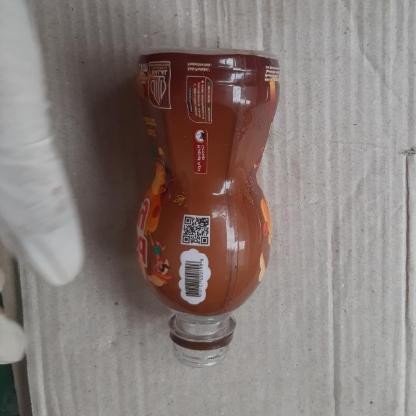Plastic Bottle: (135, 48, 285, 366)
